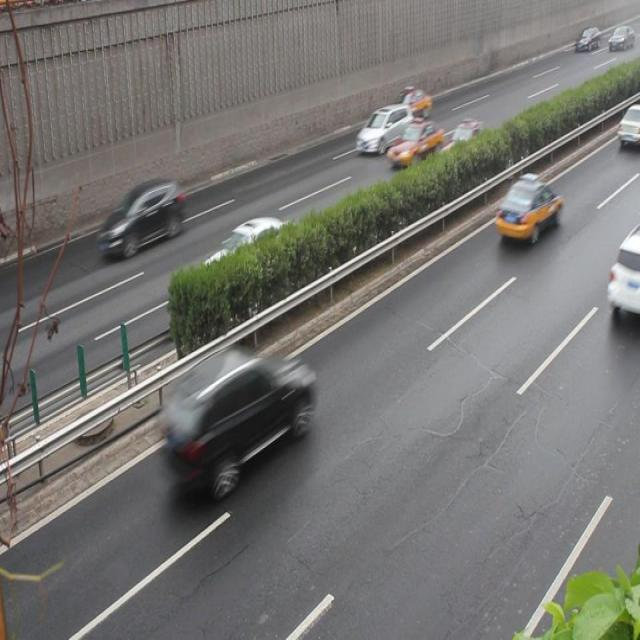car: (160, 346, 313, 486), (196, 218, 293, 298), (98, 179, 184, 257), (496, 172, 561, 246), (603, 235, 640, 322), (356, 104, 411, 156), (440, 121, 496, 171), (386, 120, 442, 170), (389, 88, 432, 123), (614, 101, 640, 151)
